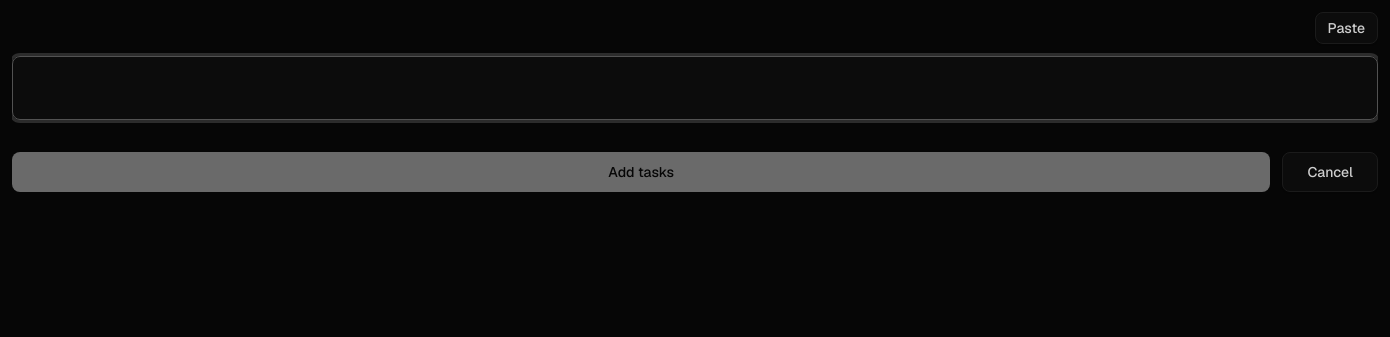
Test: CaptureForm › handles paste from clipboard
Click the button "Paste": (1346, 28) 1315,12 -> 1378,44
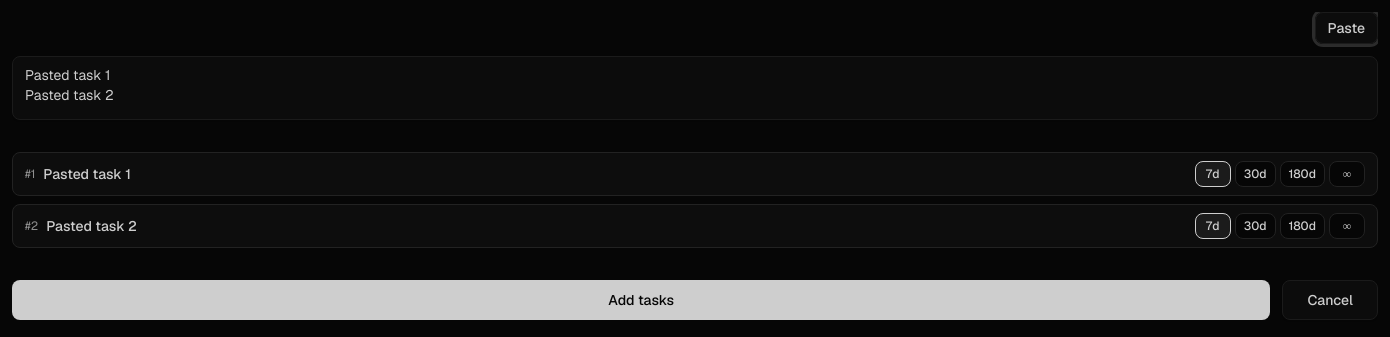
Result: the text "Pasted task 1" is shown at 43,165 -> 131,183
Result: the text "Pasted task 2" is shown at 46,217 -> 137,235
